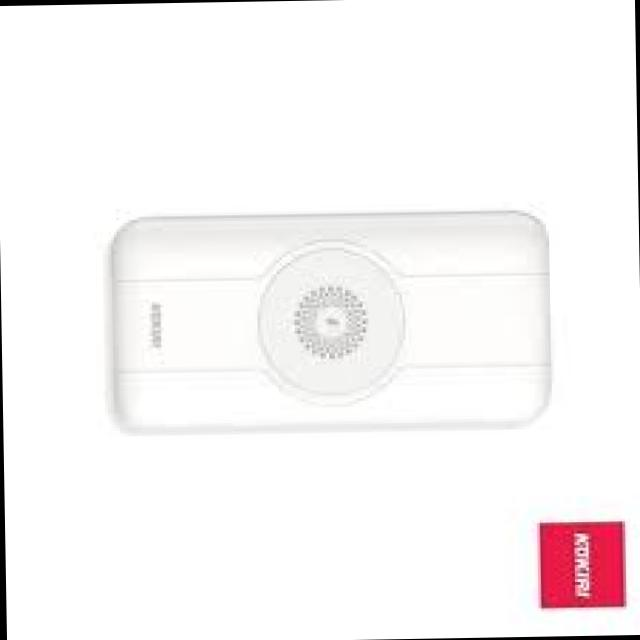power_bank: (102, 205, 555, 436)
